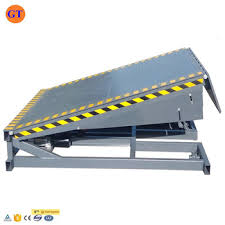Yard Ramp: (3, 47, 222, 178)
